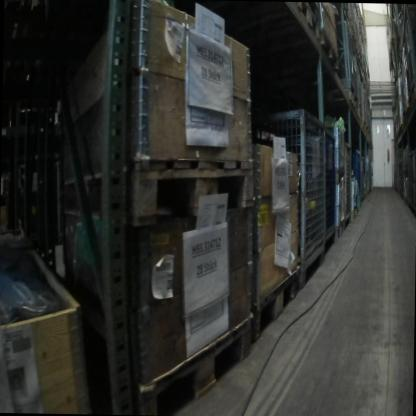pallet: (58, 146, 251, 220), (129, 319, 253, 411), (266, 29, 344, 78), (252, 270, 300, 345), (247, 4, 319, 49), (298, 81, 355, 119), (342, 35, 361, 56), (399, 109, 412, 133), (349, 98, 360, 124), (391, 127, 402, 147), (409, 85, 416, 113), (360, 120, 369, 137), (358, 56, 363, 68)
stillage: (243, 96, 328, 289), (332, 17, 364, 108), (320, 125, 338, 250), (399, 23, 416, 108), (341, 132, 354, 234), (404, 147, 416, 214), (351, 140, 362, 210), (359, 155, 368, 210)
